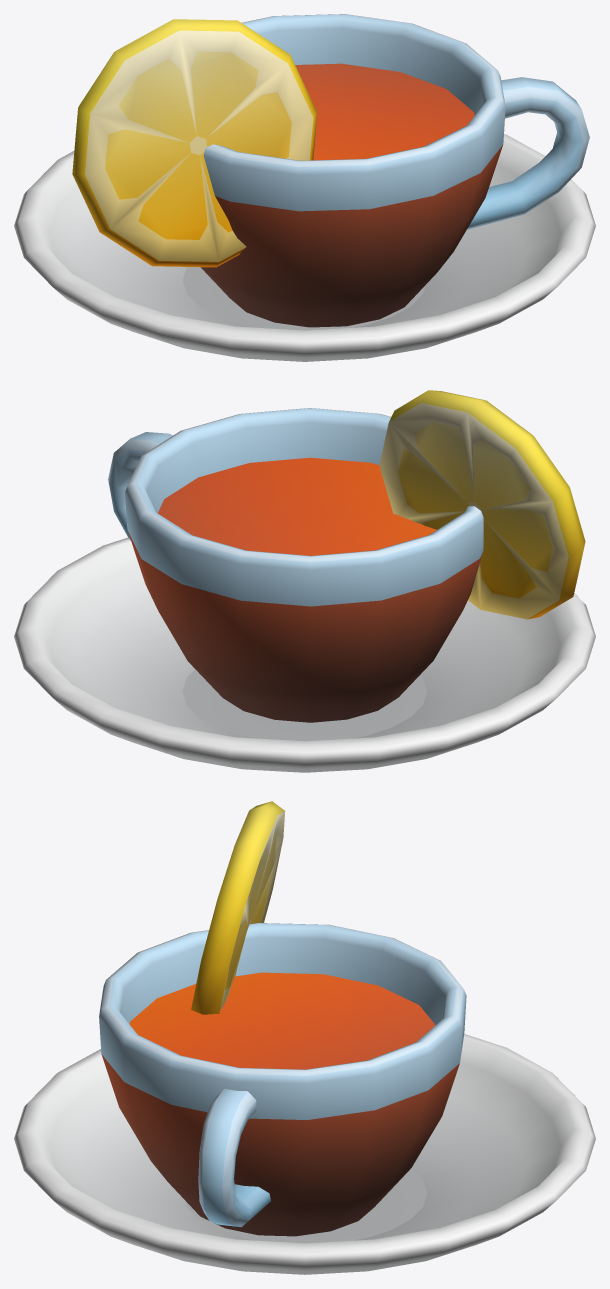
The model's file is tea_003.fbx.
The picture shows the model from 3 angles, top to bottom: view 1: azimuth 30°, elevation 25°; view 2: azimuth 150°, elevation 25°; view 3: azimuth 270°, elevation 25°; orthographic projection.
Visible parts, largest first — view 1: tea_003; view 2: tea_003; view 3: tea_003.
Boxes of the visible parts, x1,y1,x2,y2 form: tea_003: (14, 14, 595, 361); tea_003: (14, 390, 595, 772); tea_003: (14, 801, 595, 1274).
Bounding box in the file's own units: 12.78 × 12.69 × 7.75.
